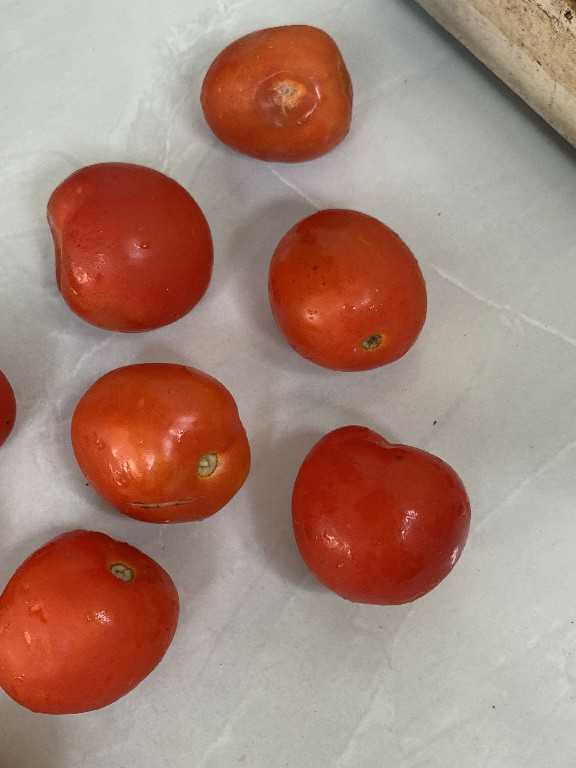NG: (65, 360, 250, 529), (198, 18, 367, 172)
OK: (0, 520, 184, 730), (283, 422, 481, 605), (42, 156, 217, 335), (266, 200, 433, 373)
